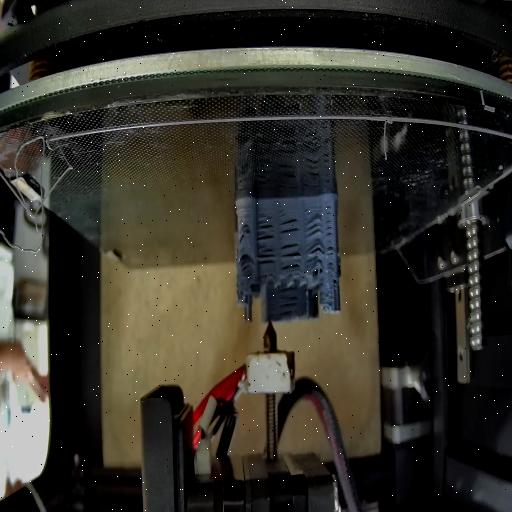cracks: (280, 240, 300, 272), (278, 288, 300, 316), (325, 203, 334, 269), (304, 214, 324, 238), (256, 214, 274, 240), (256, 248, 276, 270), (306, 244, 324, 268), (280, 212, 298, 235), (240, 254, 250, 276), (237, 234, 247, 244), (332, 278, 338, 290)
